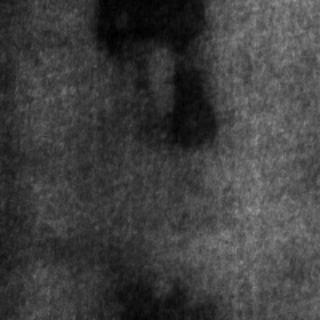patches: (92, 0, 206, 60), (164, 55, 216, 149), (100, 274, 208, 316)
